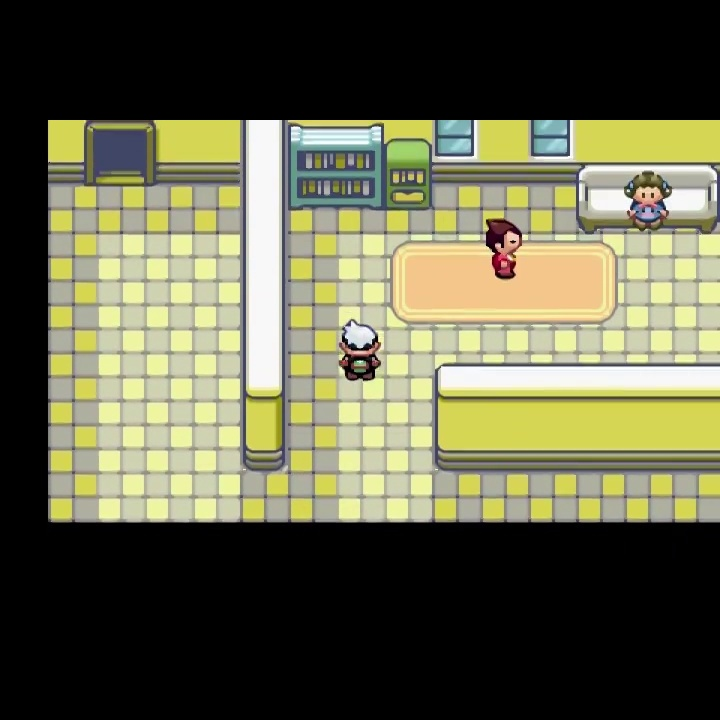npc: (622, 168, 674, 236), (336, 317, 384, 383), (483, 217, 525, 282)
